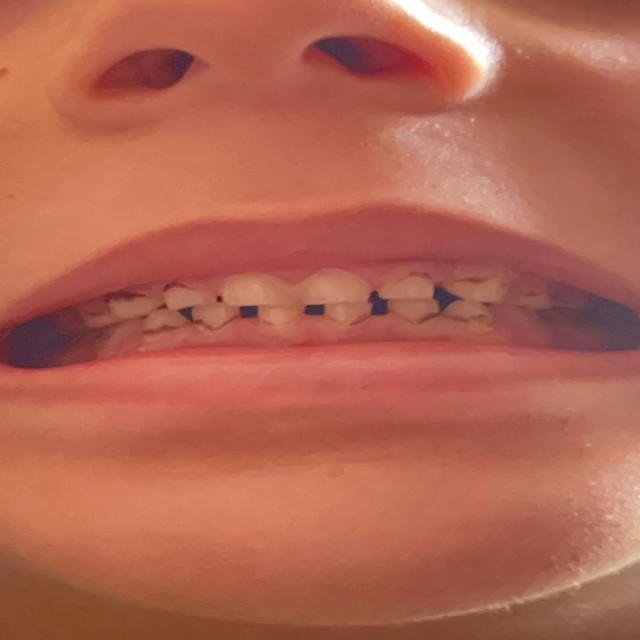tooth: (377, 278, 440, 304), (305, 279, 367, 303), (232, 282, 288, 307), (456, 278, 501, 304), (162, 289, 209, 307), (323, 304, 361, 324), (515, 288, 549, 310), (384, 302, 436, 316), (456, 305, 492, 325), (206, 308, 240, 328), (113, 294, 145, 312), (263, 308, 297, 324), (156, 314, 188, 329), (78, 315, 108, 325)
